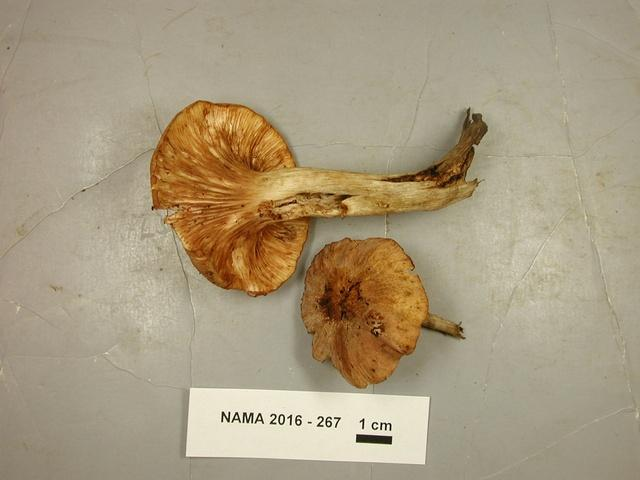Edible Mushroom: (148, 97, 488, 297), (297, 238, 462, 390)
